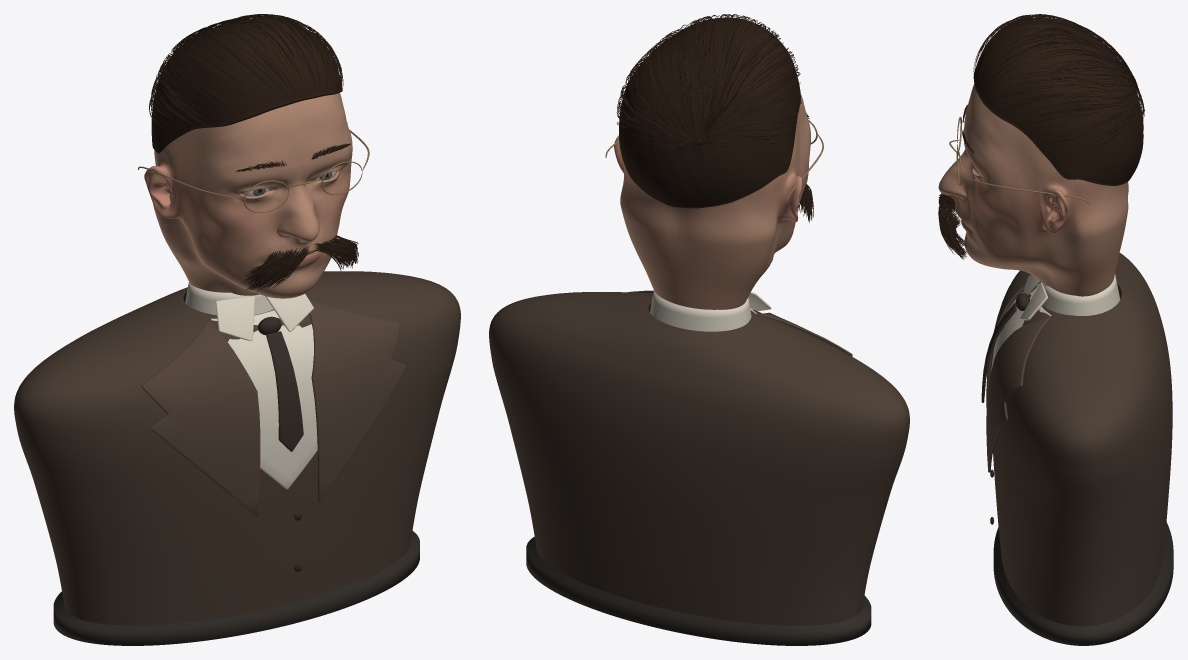
Rendered from nietzsche-a.glb.
The picture shows the model from 3 angles, left to right: view 1: azimuth 30°, elevation 25°; view 2: azimuth 150°, elevation 25°; view 3: azimuth 270°, elevation 25°; orthographic projection. The views are drawn at different scales.
Visible parts, largest first — view 1: Tailored wool shoulders - anatomical proportions, Nietzsche A anatomical Mesh_0, Nietzsche A anatomical turing-sculpted-continuous-hair, Curved notched lapel, Curved notched lapel.001, Removable study base, Fitted shirt under jacket, Scalp hair groom - Dark chestnut, Scalp hair groom - Chestnut lowlights, Cravat fitted fall, Moustache groom - Dark chestnut, Folded collar point (+3 smaller); view 2: Tailored wool shoulders - anatomical proportions, Nietzsche A anatomical turing-sculpted-continuous-hair, Nietzsche A anatomical Mesh_0, Scalp hair groom - Dark chestnut, Removable study base, Scalp hair groom - Chestnut lowlights, Fitted ivory neck collar, Scalp hair groom - Chestnut lock highlights; view 3: Tailored wool shoulders - anatomical proportions, Nietzsche A anatomical Mesh_0, Nietzsche A anatomical turing-sculpted-continuous-hair, Scalp hair groom - Dark chestnut, Removable study base, Scalp hair groom - Chestnut lowlights, Curved notched lapel.001, Fitted ivory neck collar, Scalp hair groom - Chestnut lock highlights, Moustache groom - Dark chestnut, Curved notched lapel, Fitted shirt under jacket (+3 smaller).
Boxes of the visible parts, bbox=[...] form: Tailored wool shoulders - anatomical proportions: bbox=[14, 271, 460, 625]; Nietzsche A anatomical Mesh_0: bbox=[144, 93, 352, 298]; Nietzsche A anatomical turing-sculpted-continuous-hair: bbox=[151, 18, 342, 153]; Curved notched lapel: bbox=[141, 320, 260, 517]; Curved notched lapel.001: bbox=[309, 300, 406, 502]; Removable study base: bbox=[53, 531, 419, 645]; Fitted shirt under jacket: bbox=[211, 310, 317, 489]; Scalp hair groom - Dark chestnut: bbox=[149, 14, 343, 129]; Scalp hair groom - Chestnut lowlights: bbox=[150, 14, 342, 132]; Cravat fitted fall: bbox=[266, 331, 303, 451]; Moustache groom - Dark chestnut: bbox=[244, 235, 358, 290]; Folded collar point: bbox=[215, 296, 254, 340]; Tailored wool shoulders - anatomical proportions: bbox=[489, 292, 909, 625]; Nietzsche A anatomical turing-sculpted-continuous-hair: bbox=[619, 17, 800, 208]; Nietzsche A anatomical Mesh_0: bbox=[614, 94, 810, 309]; Scalp hair groom - Dark chestnut: bbox=[616, 14, 801, 158]; Removable study base: bbox=[526, 537, 871, 645]; Scalp hair groom - Chestnut lowlights: bbox=[617, 14, 801, 154]; Fitted ivory neck collar: bbox=[650, 290, 751, 331]; Scalp hair groom - Chestnut lock highlights: bbox=[618, 19, 798, 152]; Tailored wool shoulders - anatomical proportions: bbox=[993, 253, 1172, 626]; Nietzsche A anatomical Mesh_0: bbox=[938, 84, 1128, 296]; Nietzsche A anatomical turing-sculpted-continuous-hair: bbox=[973, 17, 1143, 185]; Scalp hair groom - Dark chestnut: bbox=[973, 14, 1144, 152]; Removable study base: bbox=[993, 522, 1173, 645]; Scalp hair groom - Chestnut lowlights: bbox=[975, 14, 1143, 149]; Curved notched lapel.001: bbox=[986, 317, 1050, 472]; Fitted ivory neck collar: bbox=[1042, 274, 1120, 315]; Scalp hair groom - Chestnut lock highlights: bbox=[977, 17, 1142, 147]; Moustache groom - Dark chestnut: bbox=[938, 193, 967, 258]; Curved notched lapel: bbox=[986, 270, 1030, 407]; Fitted shirt under jacket: bbox=[991, 283, 1051, 371].
Size of the model in its own units: 0.7056 by 0.9103 by 0.3576.
Materials: 13 (1 with a texture image).
